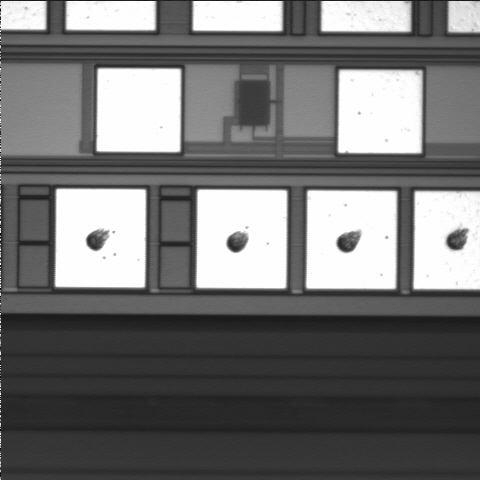pad: (55, 189, 146, 287), (196, 190, 287, 288), (306, 191, 397, 289), (97, 69, 181, 152), (338, 70, 422, 153)
